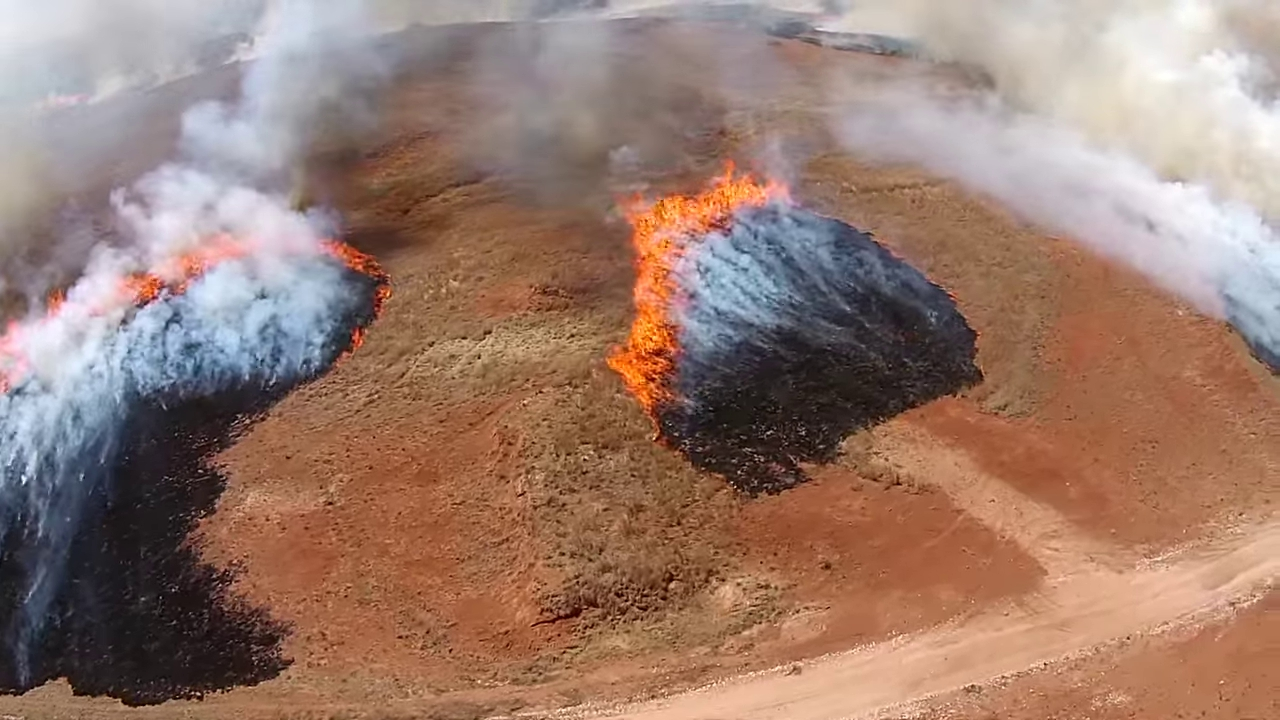forest_fire: (607, 163, 789, 422), (120, 236, 247, 307), (322, 239, 390, 317), (339, 326, 365, 358), (373, 288, 389, 317)
